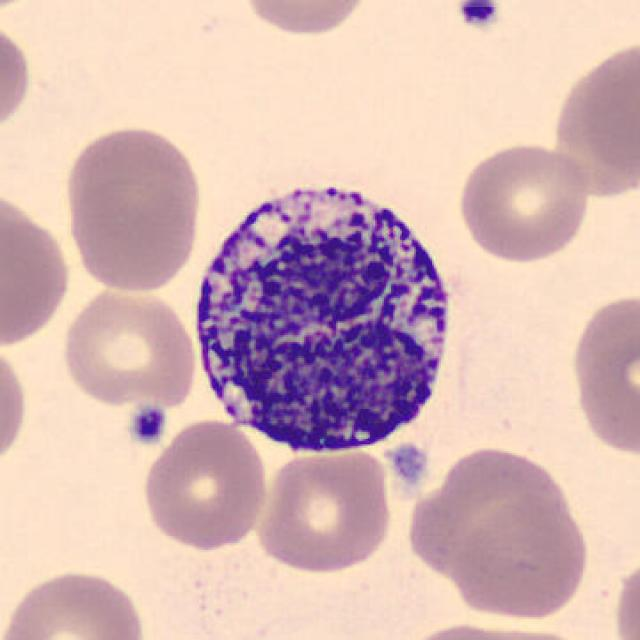Basophil: (181, 162, 466, 466)
Platelets: (386, 441, 430, 492), (124, 402, 169, 450), (453, 0, 503, 32)
RBC: (59, 120, 208, 294), (402, 443, 580, 587), (252, 444, 394, 576), (139, 414, 272, 554), (448, 496, 594, 622), (57, 282, 199, 411), (453, 138, 594, 264), (548, 33, 638, 201), (0, 183, 75, 353), (566, 288, 638, 460), (0, 564, 151, 640), (235, 0, 375, 39), (389, 617, 592, 640), (0, 335, 32, 476), (0, 12, 34, 143), (610, 550, 640, 640), (0, 0, 50, 18)
